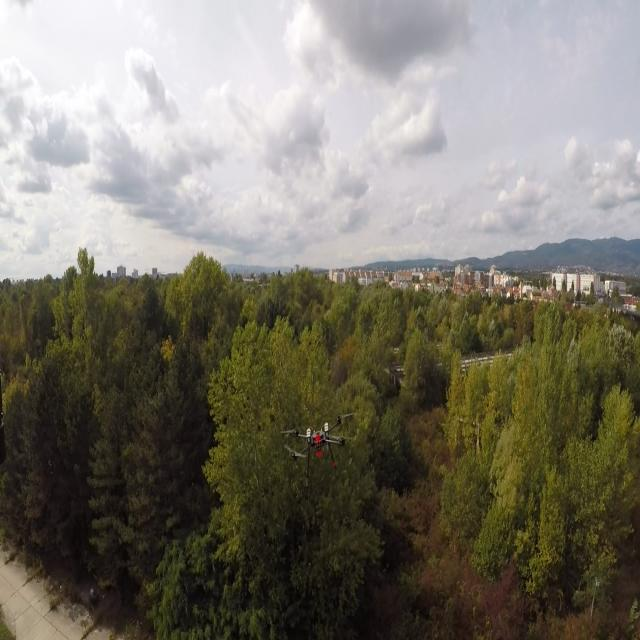UAV: (282, 408, 357, 488)
